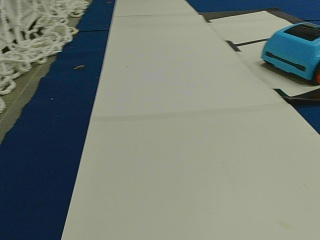car: (261, 20, 318, 82)
